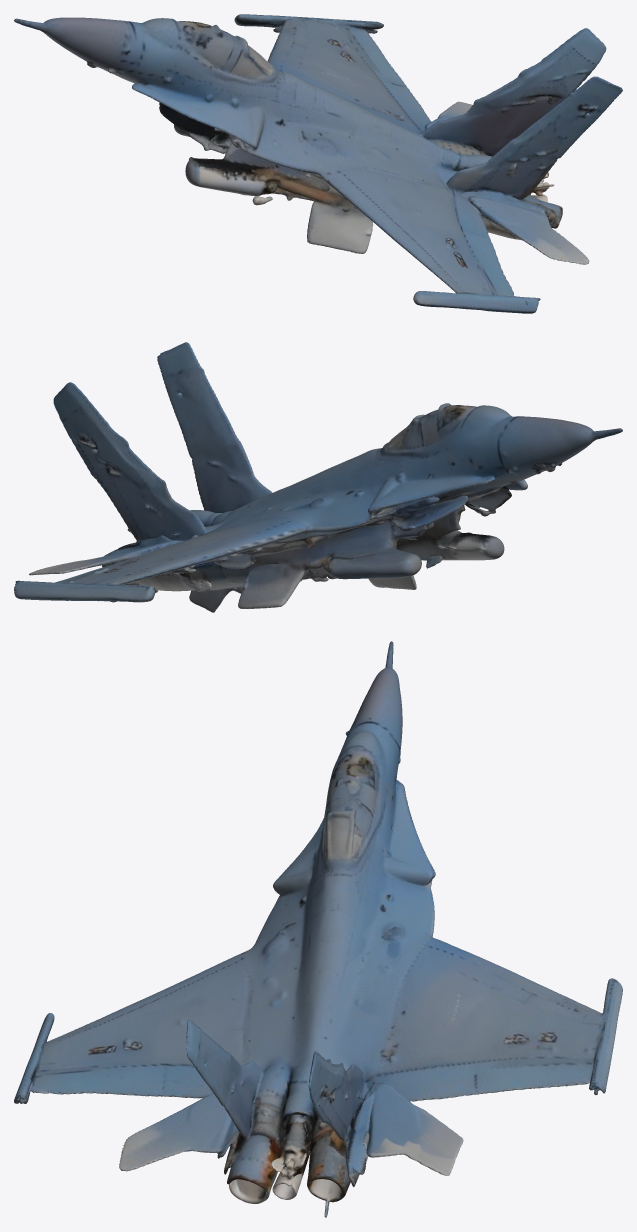
Rendered from tripo_convert_24dcad8b-538d-42b4-a521-309c6b24f09f.fbx.
3 views of the same model, one above another, from view 1: azimuth 30°, elevation 25°; view 2: azimuth 150°, elevation 25°; view 3: azimuth 270°, elevation 25° (orthographic). The views are drawn at different scales.
Parts seen in each view (by area): view 1: tripo_node_24dcad8b; view 2: tripo_node_24dcad8b; view 3: tripo_node_24dcad8b.
Part boxes in pixels (bbox=[...]): tripo_node_24dcad8b: bbox=[14, 14, 622, 313]; tripo_node_24dcad8b: bbox=[14, 342, 622, 612]; tripo_node_24dcad8b: bbox=[14, 641, 622, 1217].
Size of the model in its own units: 1 by 0.5013 by 0.8687.
Materials: 1 (1 with a texture image).
